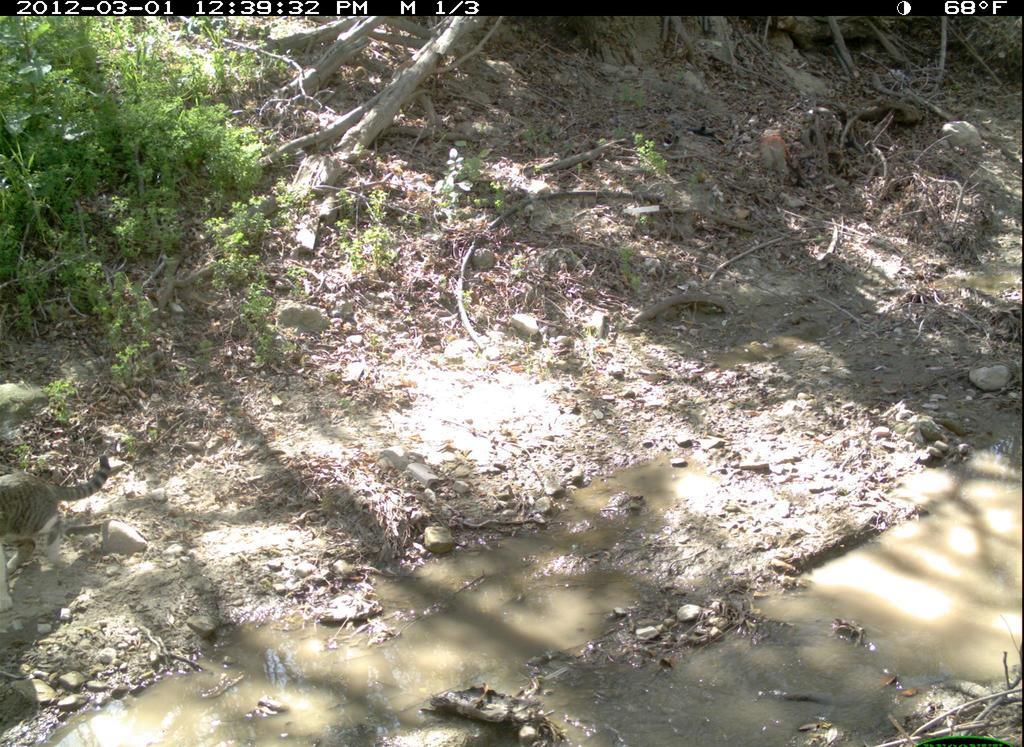cat: (2, 449, 121, 602)
